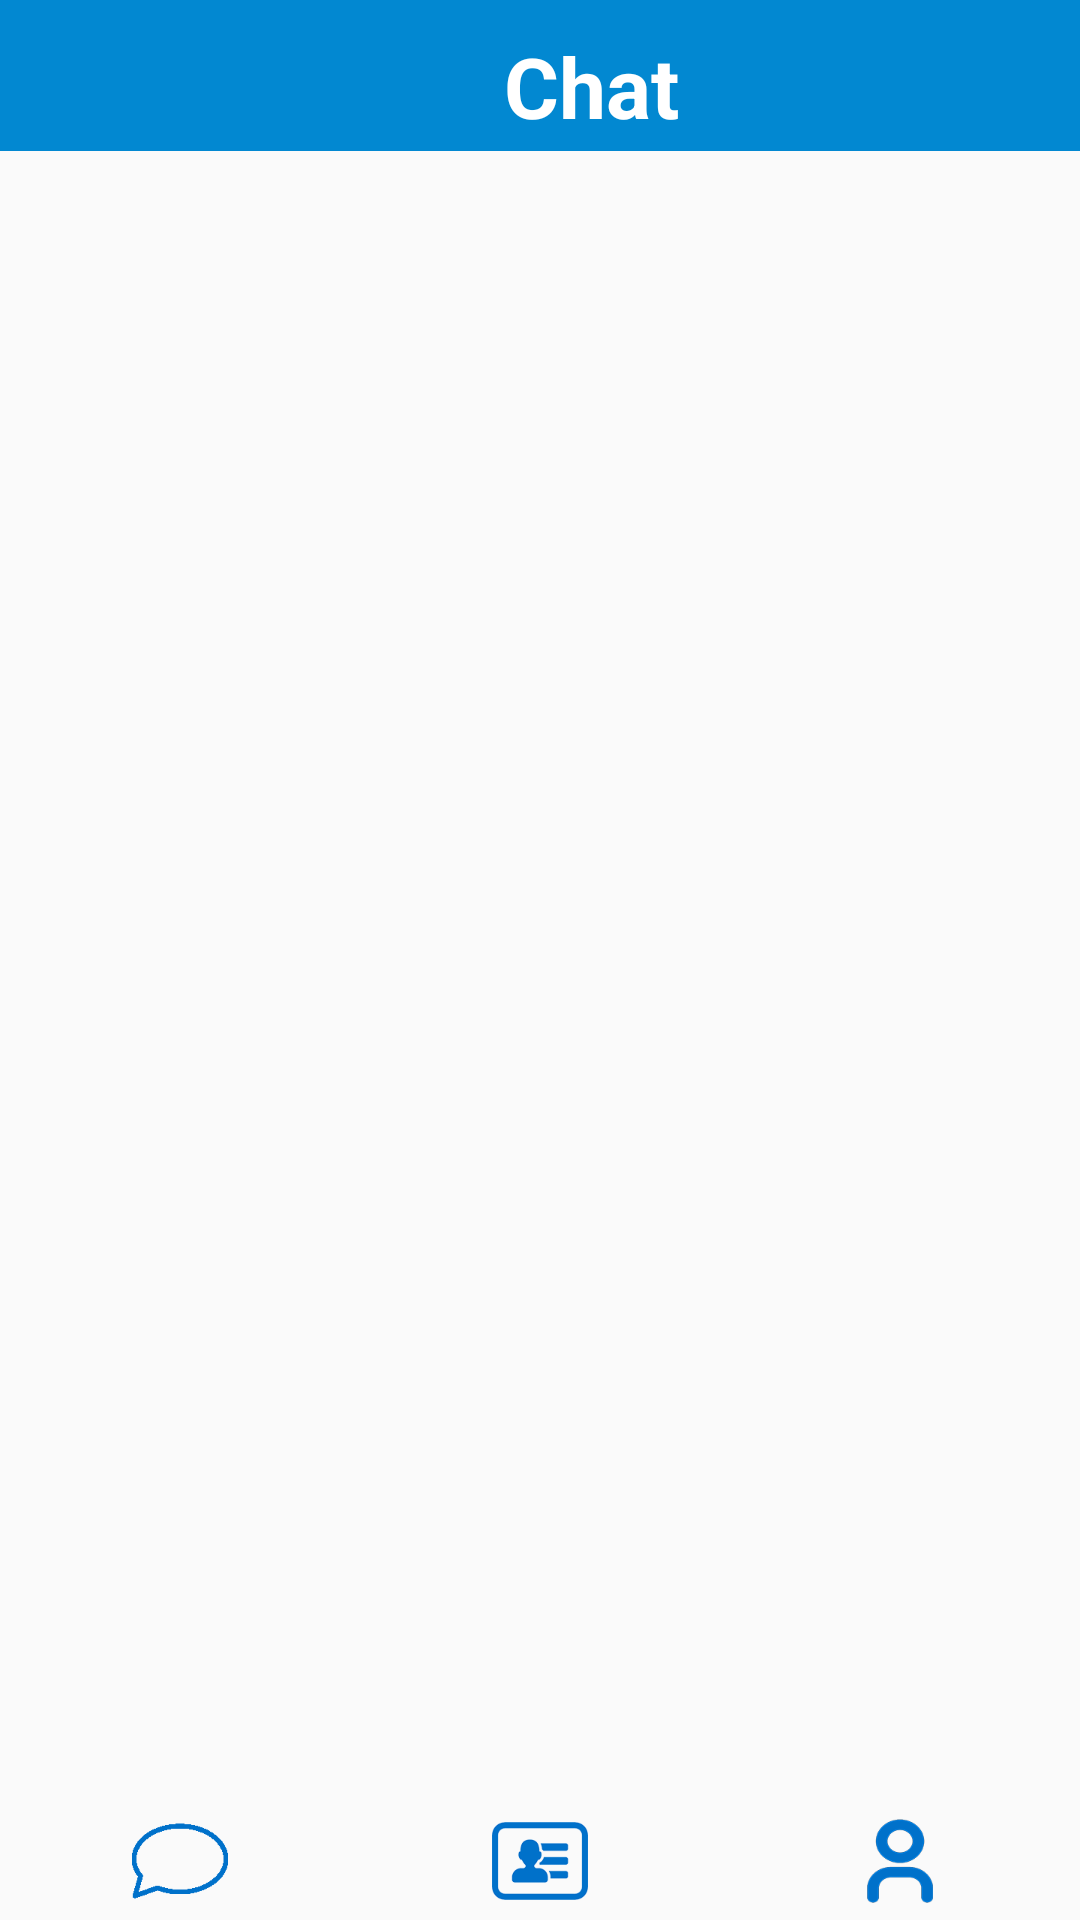

Where to tap for icons on this 1080px×1920px app screen, as [x,y]:
chat: [180,1861]
contact: [540,1861]
